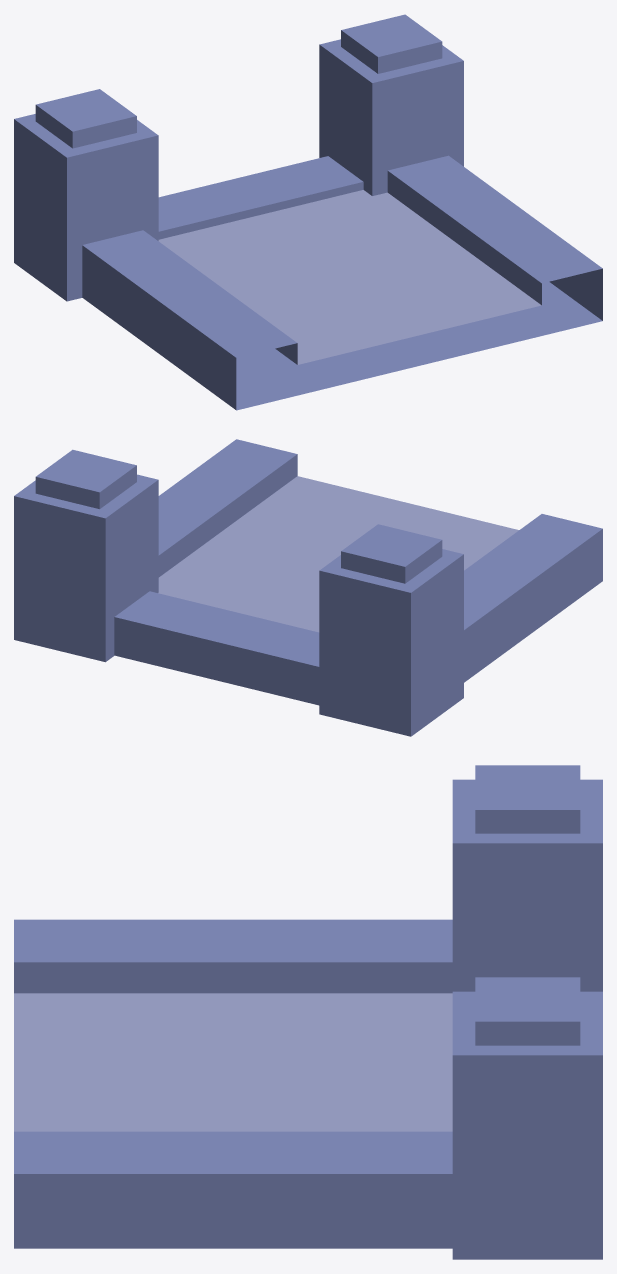
File: bridge_1_part_1.fbx
3 views of the same model, one above another, from view 1: azimuth 30°, elevation 25°; view 2: azimuth 150°, elevation 25°; view 3: azimuth 270°, elevation 25° (orthographic). The views are drawn at different scales.
Visible parts, largest first — view 1: bridge_1_part_1; view 2: bridge_1_part_1; view 3: bridge_1_part_1.
Part boxes in pixels (box(x1,y1,x2,y2)): bridge_1_part_1: box(14, 14, 602, 410); bridge_1_part_1: box(14, 439, 602, 736); bridge_1_part_1: box(14, 765, 602, 1259).
Size of the model in its own units: 10.4 by 4.02 by 9.4.
